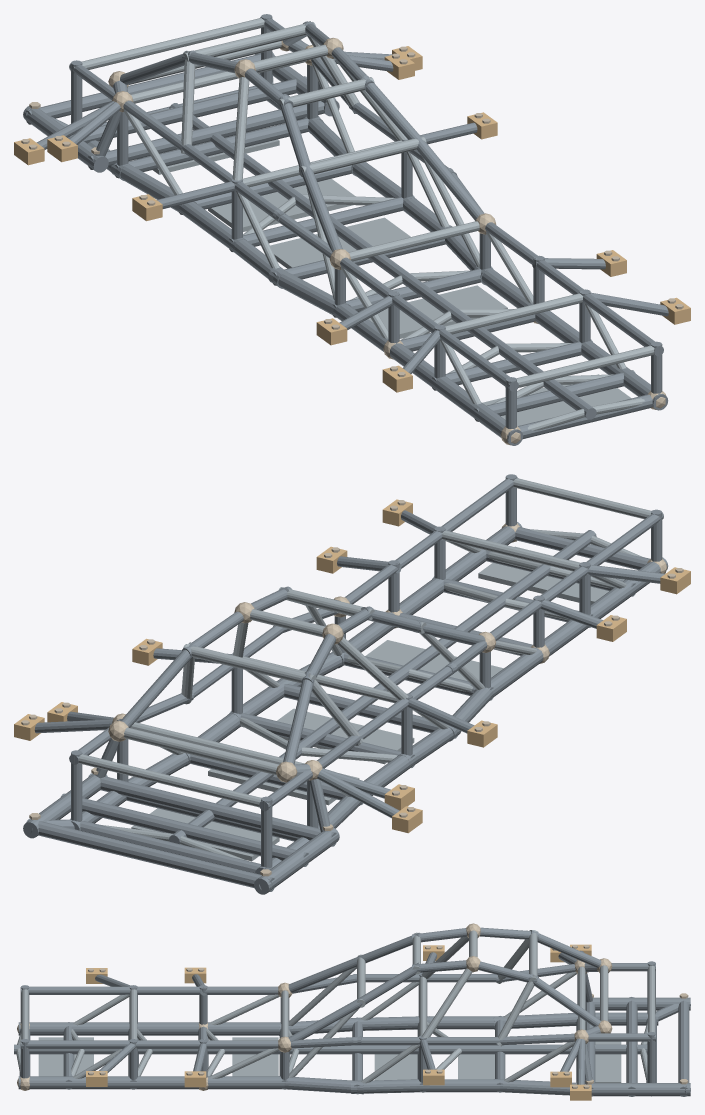
The model's file is FORGE_V18_01_Structural_Subframe.glb.
3 renders of one model, top to bottom at view 1: azimuth 30°, elevation 25°; view 2: azimuth 150°, elevation 25°; view 3: azimuth 270°, elevation 25°, orthographic. The views are drawn at different scales.
Visible parts, largest first — view 1: REMOVABLE_BELLY_PAN_2, ENGINE_CROSSBAR_0, ENGINE_CROSSBAR_1, REMOVABLE_BELLY_PAN_1, UPPER_CROSSBRACE_09, FLOOR_CROSSMEMBER_08, REMOVABLE_BELLY_PAN_3, FLOOR_CROSSMEMBER_06, ENGINE_CROSSBAR_2, FLOOR_CROSSMEMBER_01, REMOVABLE_BELLY_PAN_0, UPPER_CROSSBRACE_00 (+54 smaller); view 2: ENGINE_CROSSBAR_2, ENGINE_CROSSBAR_0, ENGINE_CROSSBAR_1, FLOOR_CROSSMEMBER_09, UPPER_CROSSBRACE_09, COCKPIT_HOOP_TOP_R4, REMOVABLE_BELLY_PAN_0, REMOVABLE_BELLY_PAN_1, UPPER_CROSSBRACE_00, FLOOR_CROSSMEMBER_00, UPPER_CROSSBRACE_02, COCKPIT_HOOP_TOP_R3 (+47 smaller); view 3: REMOVABLE_BELLY_PAN_1, LOWER_LONGERON_STBD_03, LOWER_LONGERON_STBD_06, LOWER_LONGERON_STBD_04, REMOVABLE_BELLY_PAN_0, LOWER_LONGERON_PORT_03, ENGINE_CROSSBAR_2, REMOVABLE_BELLY_PAN_3, REMOVABLE_BELLY_PAN_2, CENTRAL_SPINE_06, ENGINE_CROSSBAR_1, LOWER_LONGERON_PORT_07 (+89 smaller).
Part boxes in pixels (x1,y1,x2,y2): REMOVABLE_BELLY_PAN_2: (270,217,410,268); ENGINE_CROSSBAR_0: (88,97,336,169); ENGINE_CROSSBAR_1: (83,76,306,143); REMOVABLE_BELLY_PAN_1: (368,285,507,338); UPPER_CROSSBRACE_09: (70,18,272,73); FLOOR_CROSSMEMBER_08: (114,116,320,178); REMOVABLE_BELLY_PAN_3: (208,178,355,231); FLOOR_CROSSMEMBER_06: (229,195,414,251); ENGINE_CROSSBAR_2: (26,52,274,124); FLOOR_CROSSMEMBER_01: (474,370,635,421); REMOVABLE_BELLY_PAN_0: (482,374,630,425); UPPER_CROSSBRACE_00: (505,345,662,389); ENGINE_CROSSBAR_2: (26,818,274,891); ENGINE_CROSSBAR_0: (88,773,336,846); ENGINE_CROSSBAR_1: (61,793,308,866); FLOOR_CROSSMEMBER_09: (70,818,272,873); UPPER_CROSSBRACE_09: (70,754,272,809); COCKPIT_HOOP_TOP_R4: (124,727,278,775); REMOVABLE_BELLY_PAN_0: (478,546,624,604); REMOVABLE_BELLY_PAN_1: (365,640,503,680); UPPER_CROSSBRACE_00: (505,478,662,522); FLOOR_CROSSMEMBER_00: (515,527,650,569); UPPER_CROSSBRACE_02: (434,530,587,574); COCKPIT_HOOP_TOP_R3: (183,644,316,683); REMOVABLE_BELLY_PAN_1: (232,1037,278,1076); LOWER_LONGERON_STBD_03: (198,1076,284,1089); LOWER_LONGERON_STBD_06: (416,1079,504,1092); LOWER_LONGERON_STBD_04: (278,1076,363,1094); REMOVABLE_BELLY_PAN_0: (38,1037,93,1076); LOWER_LONGERON_PORT_03: (197,1022,291,1035); ENGINE_CROSSBAR_2: (678,1000,689,1096); REMOVABLE_BELLY_PAN_3: (458,1054,494,1079); REMOVABLE_BELLY_PAN_2: (374,1054,417,1080); CENTRAL_SPINE_06: (456,1044,556,1054); ENGINE_CROSSBAR_1: (626,997,637,1096); LOWER_LONGERON_PORT_07: (493,1013,577,1029).
Size of the model in its own units: 3.86 by 1.51 by 7.55.
